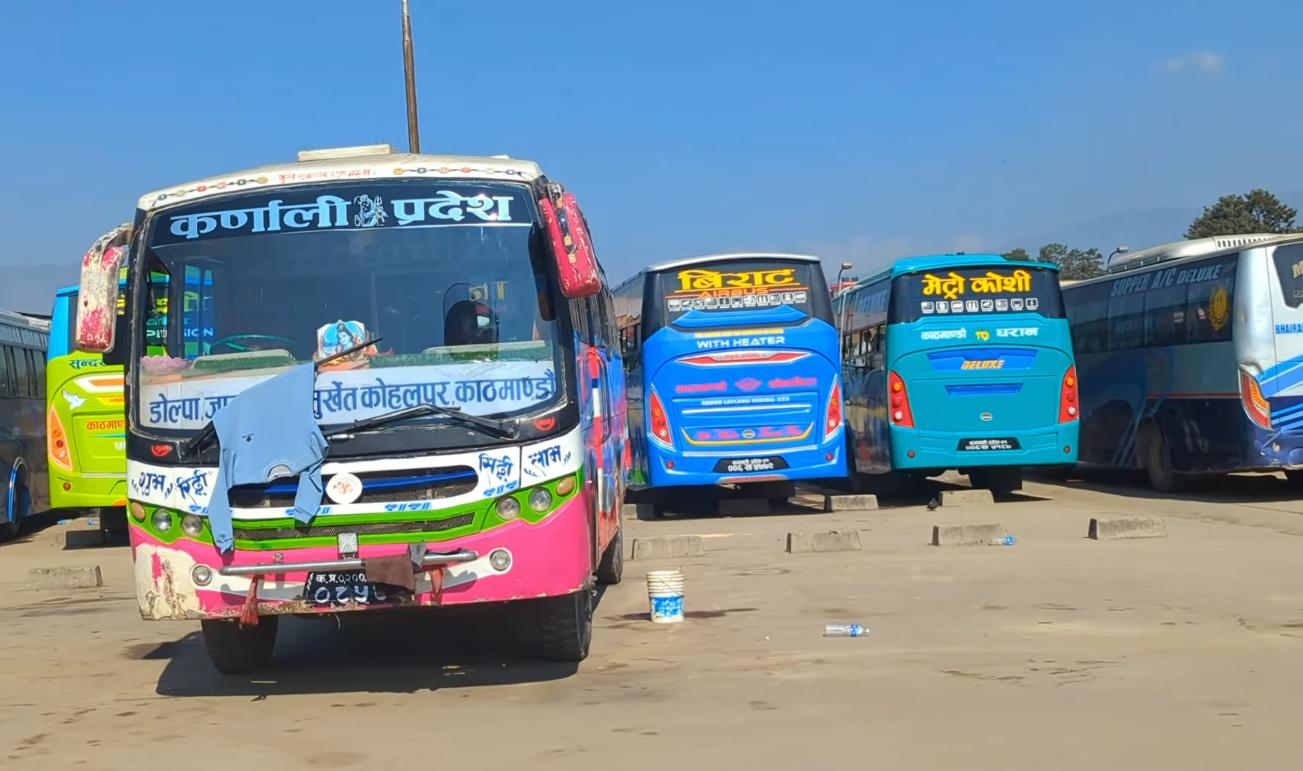bus: (69, 143, 626, 673), (1059, 213, 1303, 503), (608, 243, 856, 513), (830, 254, 1082, 494)
